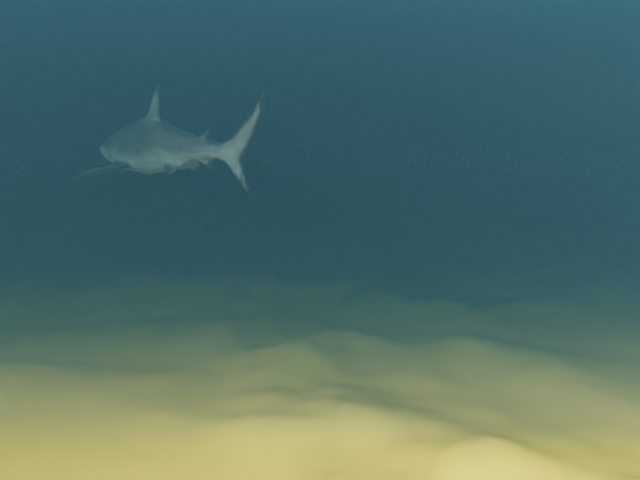Carribean Shark.001: (68, 85, 265, 191)
